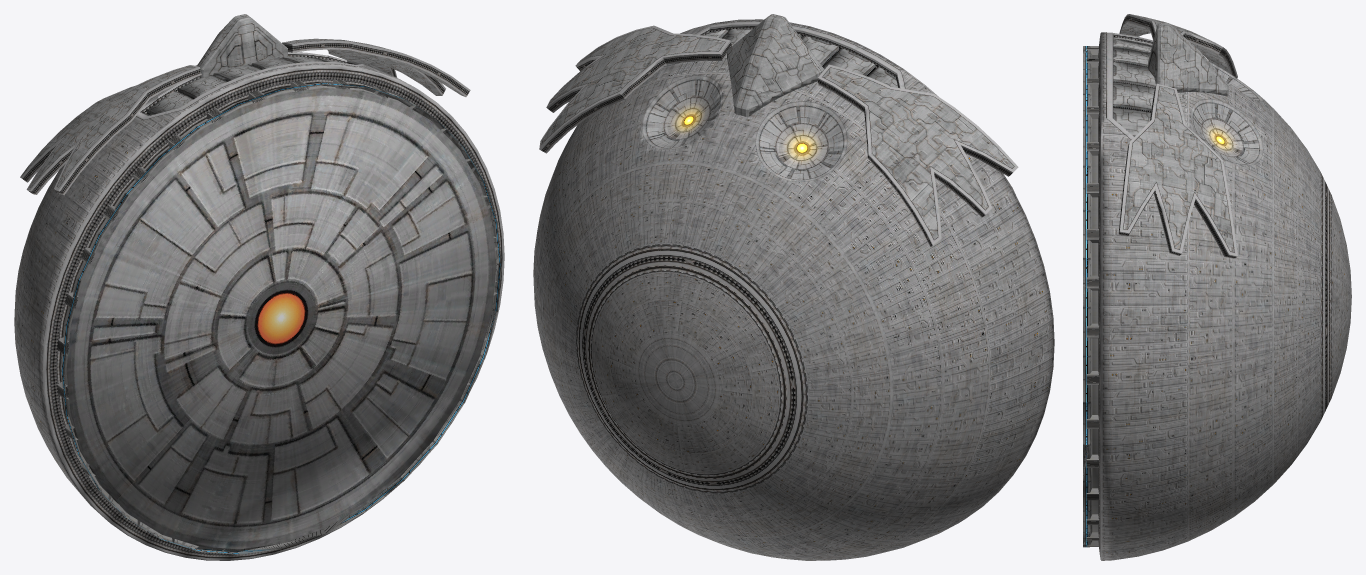
File: DeathEggTop.glb
3 views of the same model, side by side, from view 1: azimuth 30°, elevation 25°; view 2: azimuth 150°, elevation 25°; view 3: azimuth 270°, elevation 25° (orthographic). The views are drawn at different scales.
Parts seen in each view (by area): view 1: ssz_obj_eggstar_top-col; view 2: ssz_obj_eggstar_top-col; view 3: ssz_obj_eggstar_top-col.
Boxes of the visible parts, x1,y1,x2,y2 form: ssz_obj_eggstar_top-col: (14, 14, 504, 560); ssz_obj_eggstar_top-col: (533, 14, 1054, 560); ssz_obj_eggstar_top-col: (1083, 14, 1351, 560).
Bounding box in the file's own units: 119 × 127 × 60.57.
10 materials, 10 textured.
